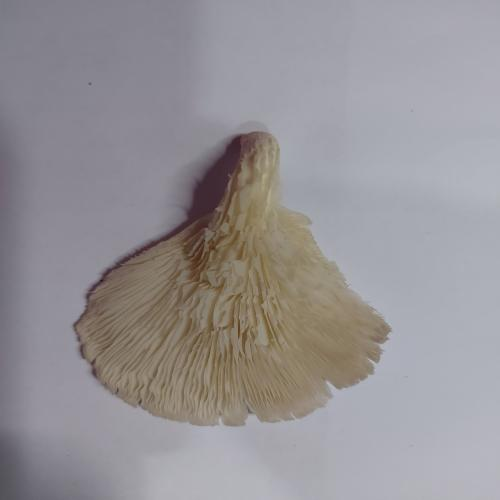Oyster Mushroom: (73, 130, 393, 427)
